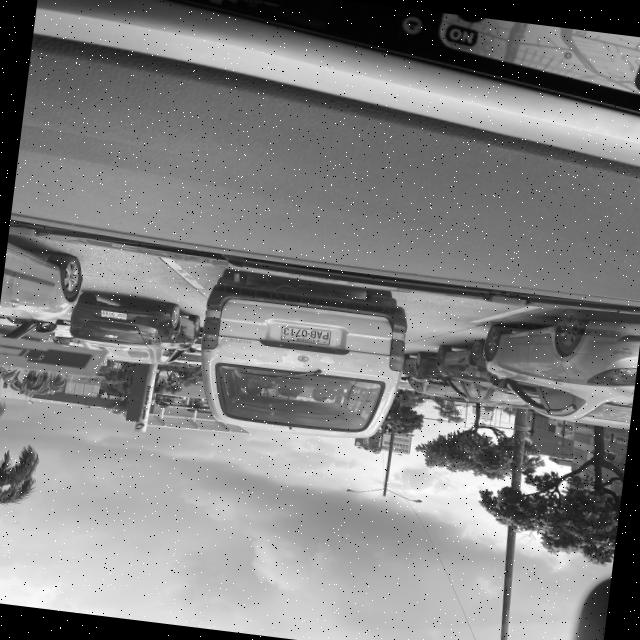Placa: (280, 325, 330, 343), (101, 309, 127, 320)
